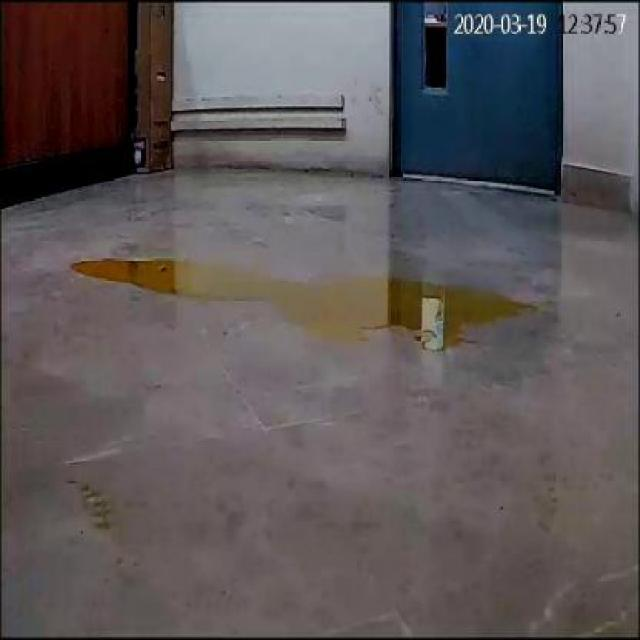spill: (68, 255, 530, 352)
